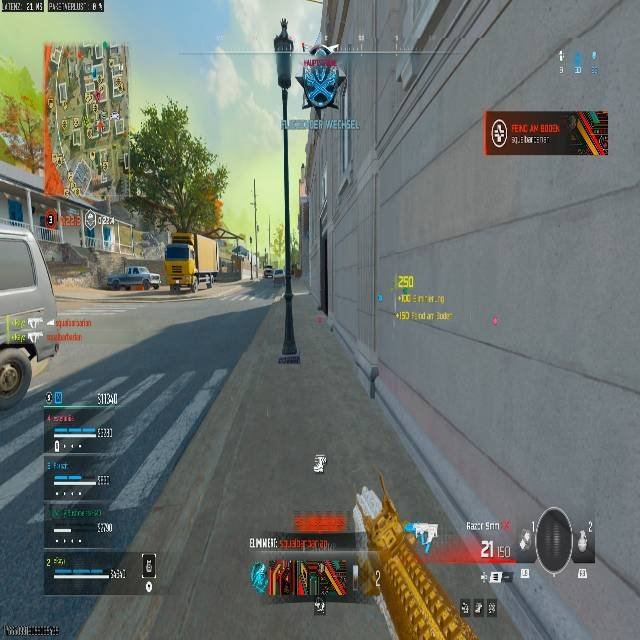player: (204, 273, 214, 288)
